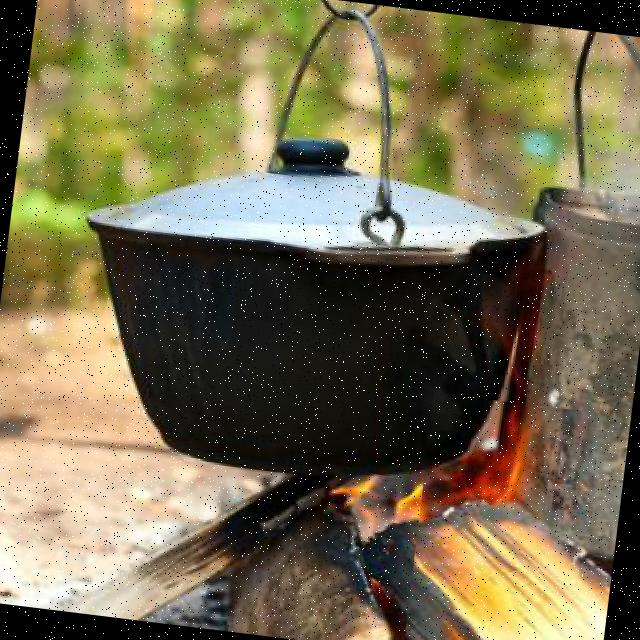fire: (402, 392, 630, 640)
